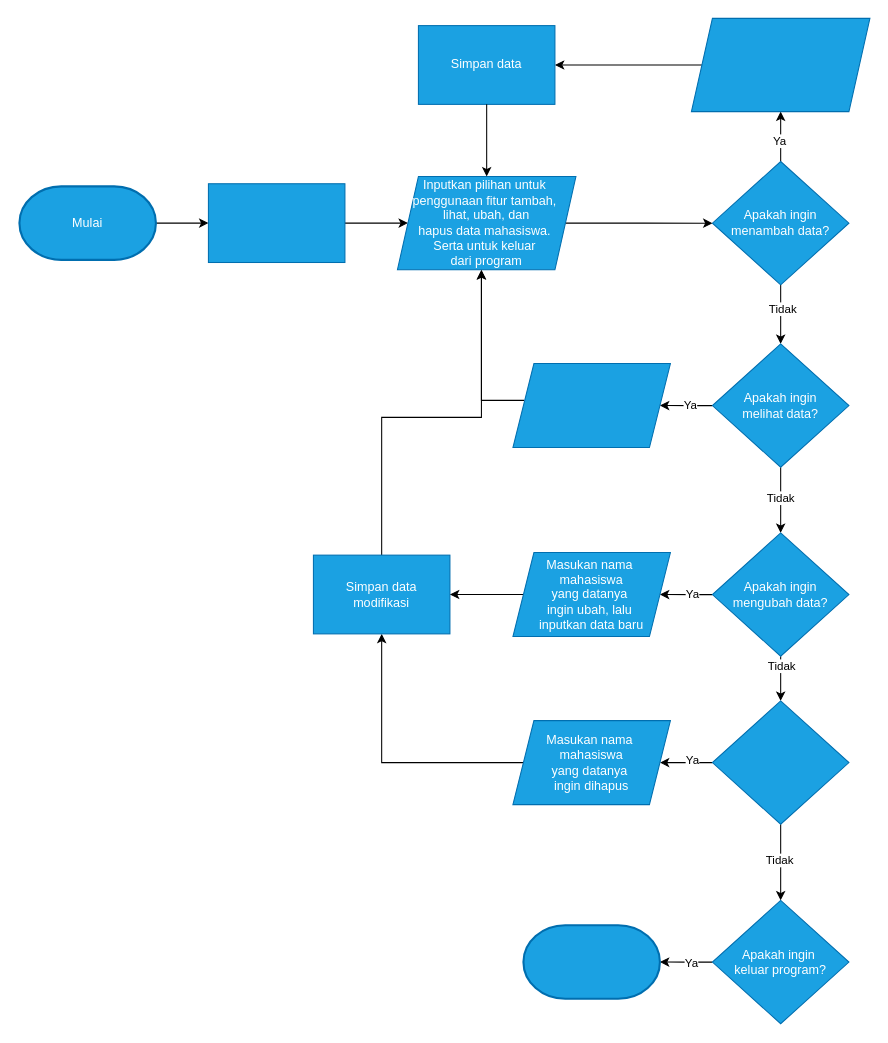
The diagram is 888 pixels wide and 1043 high, and some of its shapes have lost their labels. Here are the shapes that lost their labels. From the top down, the centre of each, then its label:
At [780,64]: "Masukan data yang ingin ditambahkan".
At [276,222]: "Inisialisasi dictionary untuk penyimpanan data mahasiswa".
At [591,405]: "Tampilkan data mahasiswa".
At [780,762]: "Apakah ingin menghapus data?".
At [591,961]: "Selesai".
